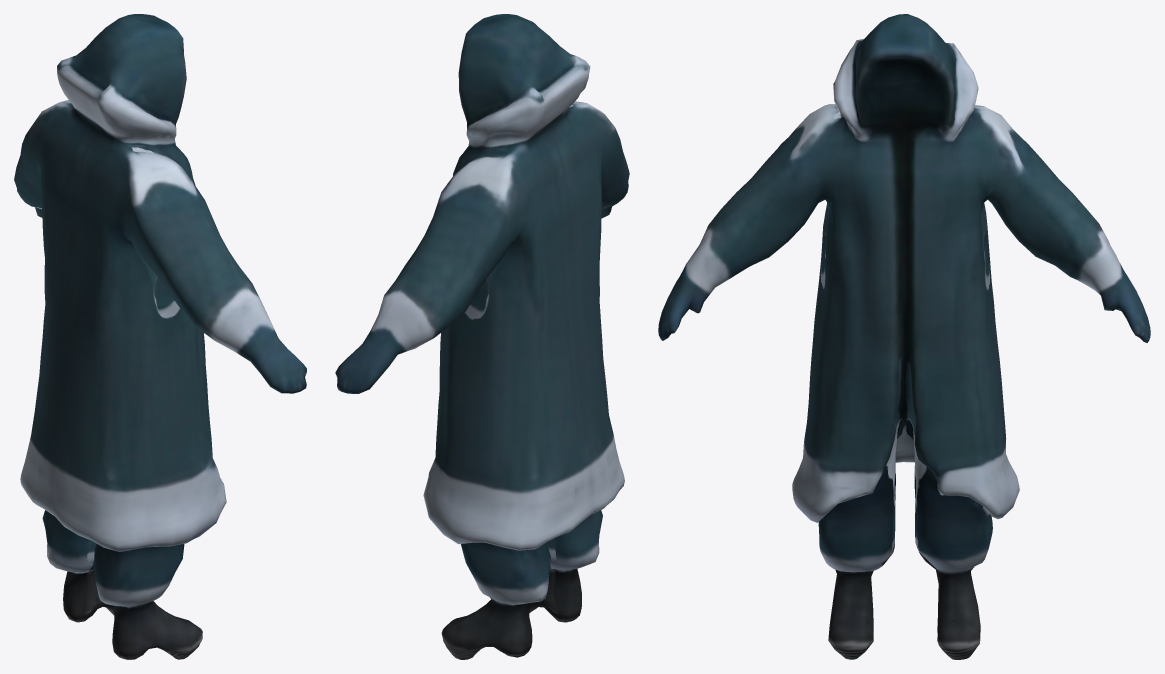
File: pedestrian3.glb
3 renders of one model, left to right at view 1: azimuth 30°, elevation 25°; view 2: azimuth 150°, elevation 25°; view 3: azimuth 270°, elevation 25°, orthographic.
Parts seen in each view (by area): view 1: mesh; view 2: mesh; view 3: mesh.
Boxes of the visible parts, left/top/right/bottom form: mesh: left=14, top=14, right=306, bottom=659; mesh: left=335, top=14, right=629, bottom=659; mesh: left=658, top=14, right=1150, bottom=659.
Size of the model in its own units: 0.2425 by 0.9987 by 0.7097.
Materials: 1 (1 with a texture image).
